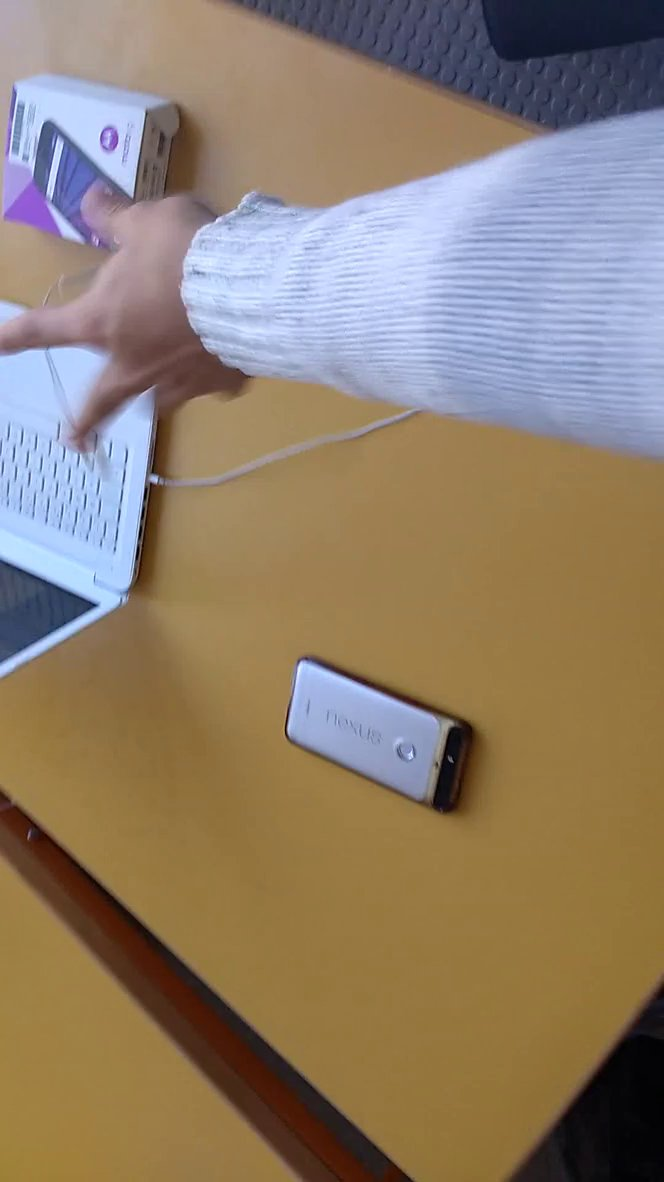phone: (268, 633, 508, 837)
